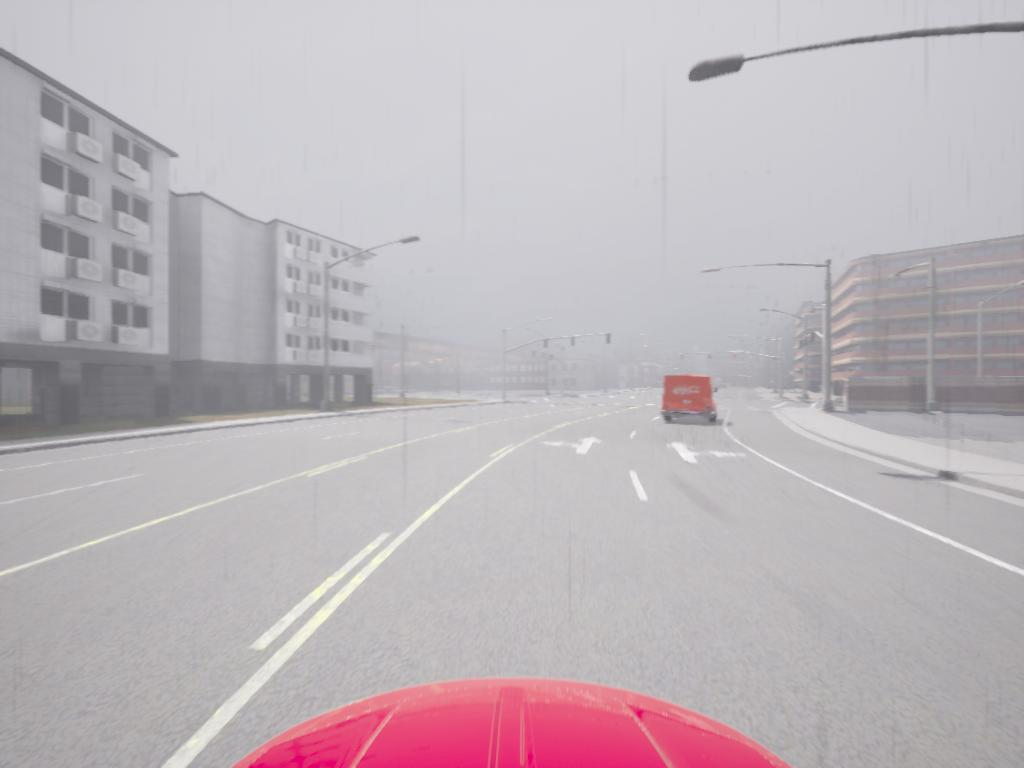traffic_light: (606, 334, 612, 346), (571, 337, 577, 348), (545, 339, 549, 351), (734, 353, 739, 360), (709, 354, 713, 360), (681, 354, 684, 361)
